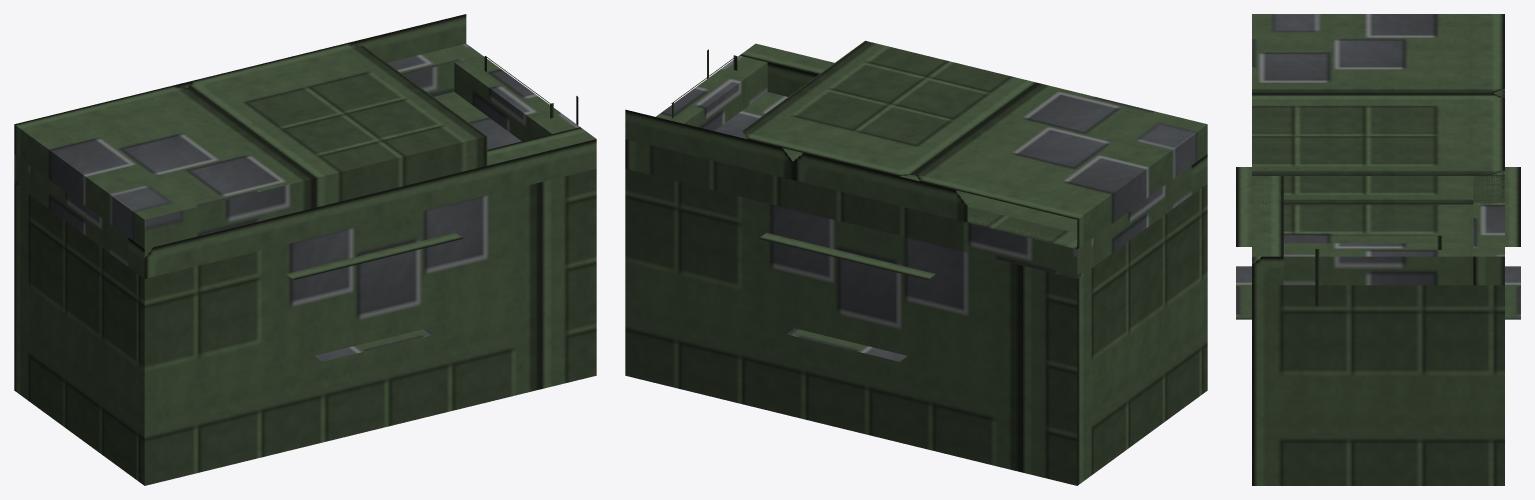
The model's file is ammunition_crate_inv.obj.
3 renders of one model, left to right at view 1: azimuth 30°, elevation 25°; view 2: azimuth 150°, elevation 25°; view 3: azimuth 270°, elevation 25°, orthographic. The views are drawn at different scales.
Visible parts, largest first — view 1: main, lid; view 2: main, lid; view 3: main, lid.
Part boxes in pixels (x1=…): main: x1=14, y1=43, x2=596, y2=485; lid: x1=14, y1=14, x2=578, y2=249; main: x1=625, y1=43, x2=1207, y2=485; lid: x1=625, y1=40, x2=1207, y2=249; main: x1=1236, y1=89, x2=1520, y2=485; lid: x1=1252, y1=14, x2=1504, y2=306.
Bounding box in the file's own units: 1.03 × 0.5625 × 0.5625.
